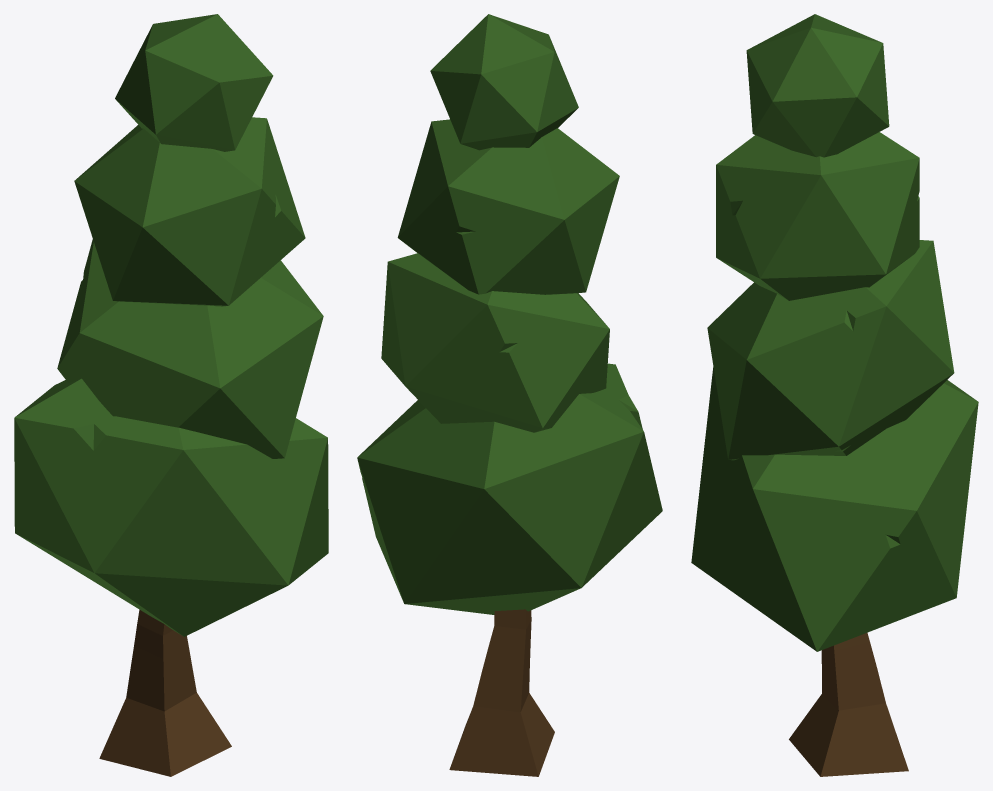
The model's file is juniper.fbx.
3 renders of one model, left to right at view 1: azimuth 30°, elevation 25°; view 2: azimuth 150°, elevation 25°; view 3: azimuth 270°, elevation 25°, orthographic. The views are drawn at different scales.
Visible parts, largest first — view 1: Icosphere.016, Icosphere.015, Icosphere.014, Icosphere.013, Cube.005; view 2: Icosphere.016, Icosphere.015, Icosphere.014, Icosphere.013, Cube.005; view 3: Icosphere.016, Icosphere.015, Icosphere.014, Icosphere.013, Cube.005.
Part boxes in pixels (bbox=[...]): Icosphere.016: bbox=[14, 378, 328, 636]; Icosphere.015: bbox=[57, 239, 323, 458]; Icosphere.014: bbox=[74, 117, 305, 306]; Icosphere.013: bbox=[115, 14, 273, 151]; Cube.005: bbox=[99, 609, 231, 776]; Icosphere.016: bbox=[357, 363, 662, 614]; Icosphere.015: bbox=[381, 253, 609, 432]; Icosphere.014: bbox=[397, 119, 619, 294]; Icosphere.013: bbox=[430, 14, 578, 150]; Cube.005: bbox=[449, 609, 554, 776]; Icosphere.016: bbox=[691, 367, 978, 651]; Icosphere.015: bbox=[707, 240, 954, 460]; Icosphere.014: bbox=[716, 132, 919, 300]; Icosphere.013: bbox=[746, 14, 889, 157]; Cube.005: bbox=[789, 632, 908, 776].
Size of the model in its own units: 2.63 by 6.33 by 2.2.
